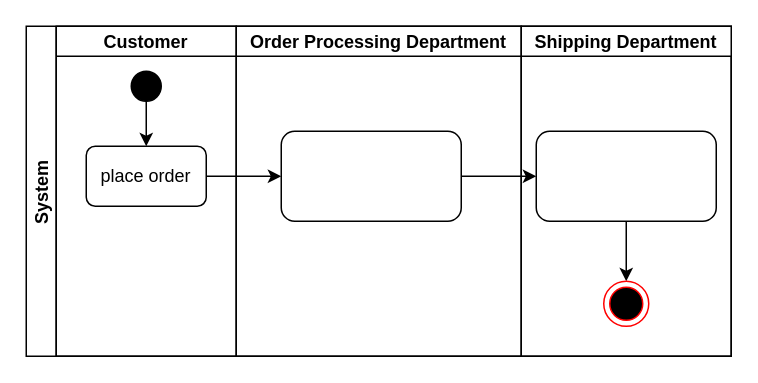
Image size: 758x383. Some labels were removed from this diagram. The shapes that lost their labels are listed below. From the top down, each one's centre as x and y in pixels, then its label:
pixel 370 175: confirm payment and assemble order
pixel 625 175: ship order
